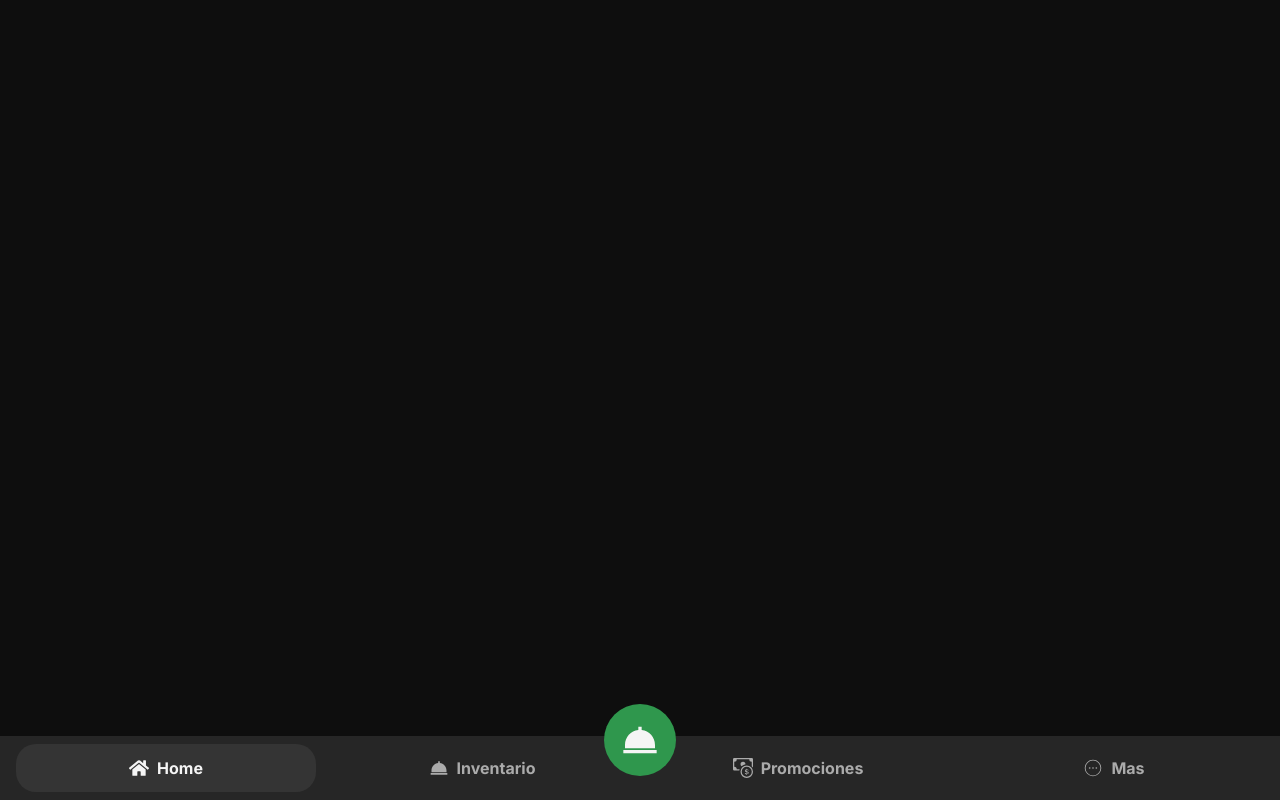
BottomNav › abre el menú Mas para staff y muestra Mi Perfil
Click the button "Mas" at (1114, 768), box [964,744,1264,792]
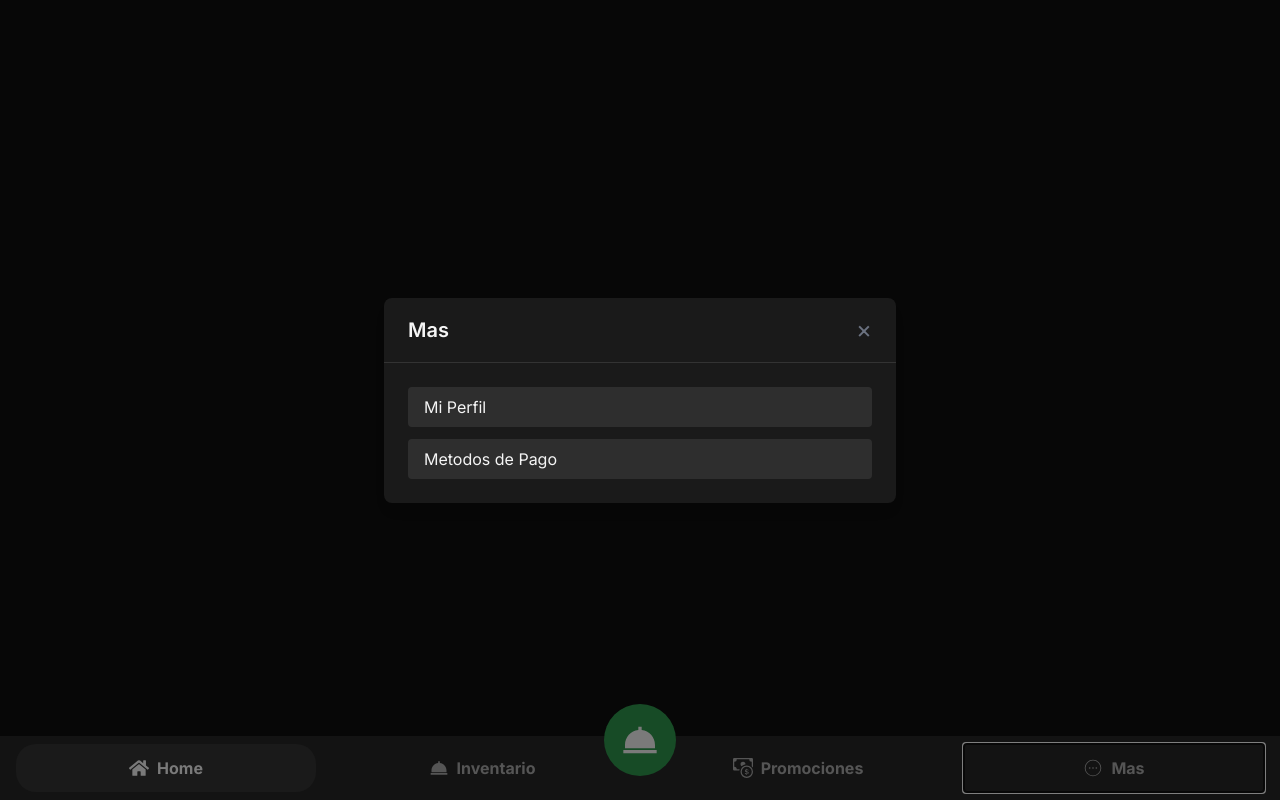
Expected: the button "Mi Perfil" is shown, [408,386,872,426]
